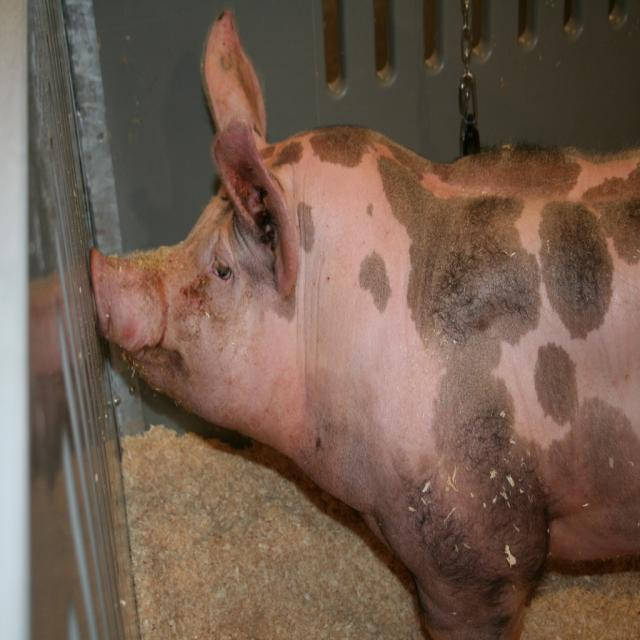Pig: (88, 6, 640, 640)
